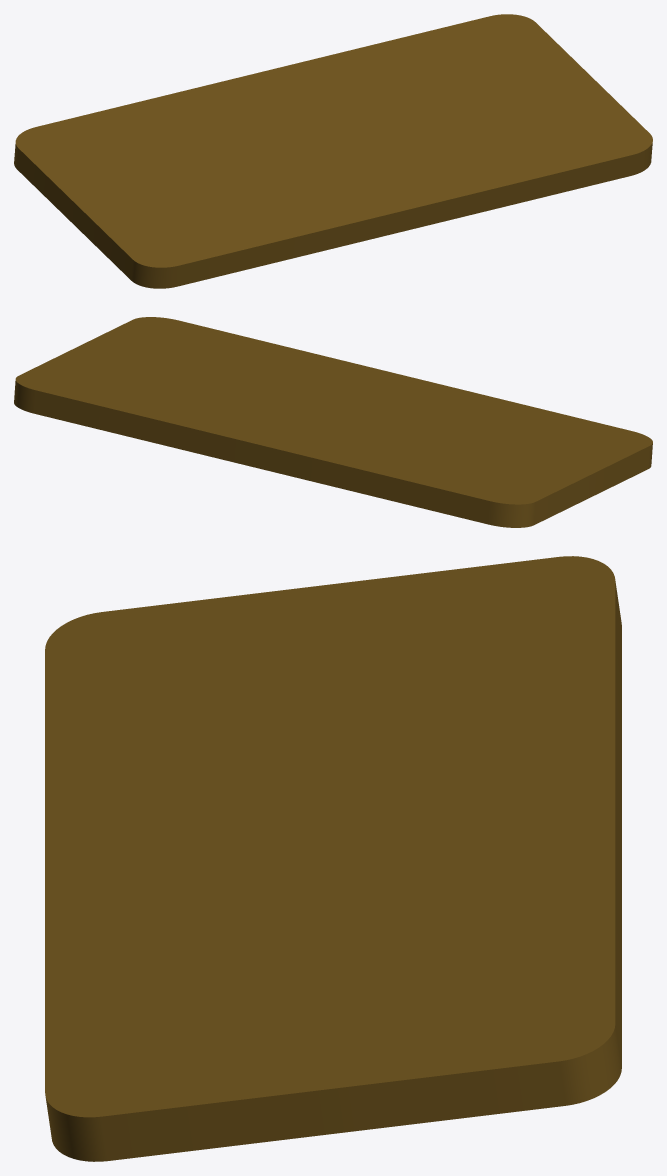
File: original-45.obj
The picture shows the model from 3 angles, top to bottom: view 1: azimuth 30°, elevation 25°; view 2: azimuth 150°, elevation 25°; view 3: azimuth 270°, elevation 25°; orthographic projection. The views are drawn at different scales.
Visible parts, largest first — view 1: mesh45/mesh45-geometry#mesh45-geometry; view 2: mesh45/mesh45-geometry#mesh45-geometry; view 3: mesh45/mesh45-geometry#mesh45-geometry.
Part boxes in pixels (x1,y1,x2,y2): mesh45/mesh45-geometry#mesh45-geometry: [14, 14, 652, 288]; mesh45/mesh45-geometry#mesh45-geometry: [14, 317, 652, 527]; mesh45/mesh45-geometry#mesh45-geometry: [45, 556, 621, 1161].
Size of the model in its own units: 0.1764 by 0.0185 by 0.0852.
